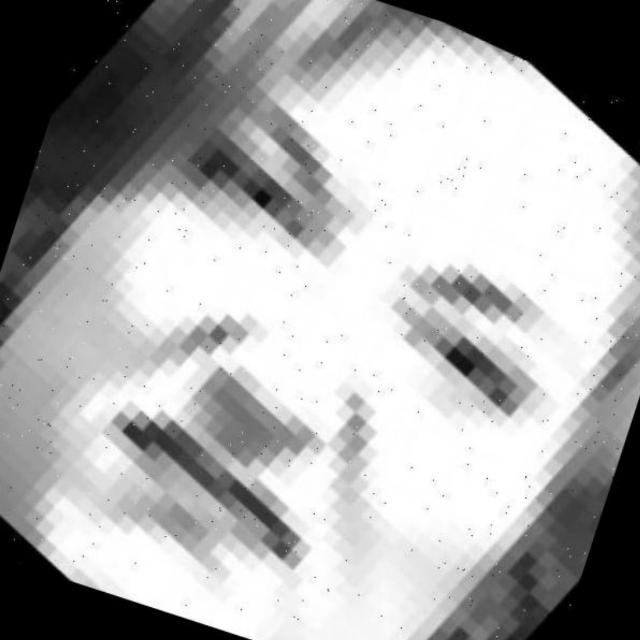Angry: (25, 47, 584, 562)
